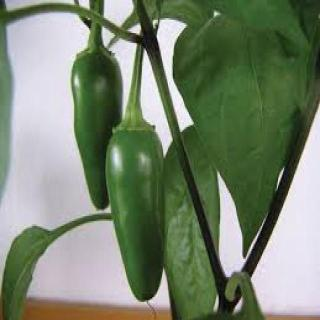Cabai Hijau: (107, 113, 168, 307), (70, 45, 124, 213)
